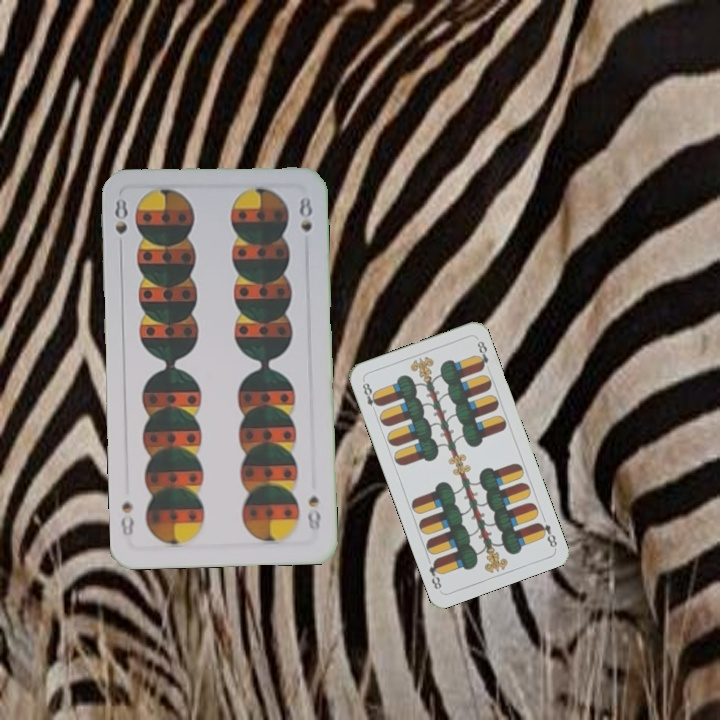E8: (533, 518, 560, 550), (358, 377, 382, 409)
S8: (110, 194, 130, 253), (303, 491, 324, 535)
